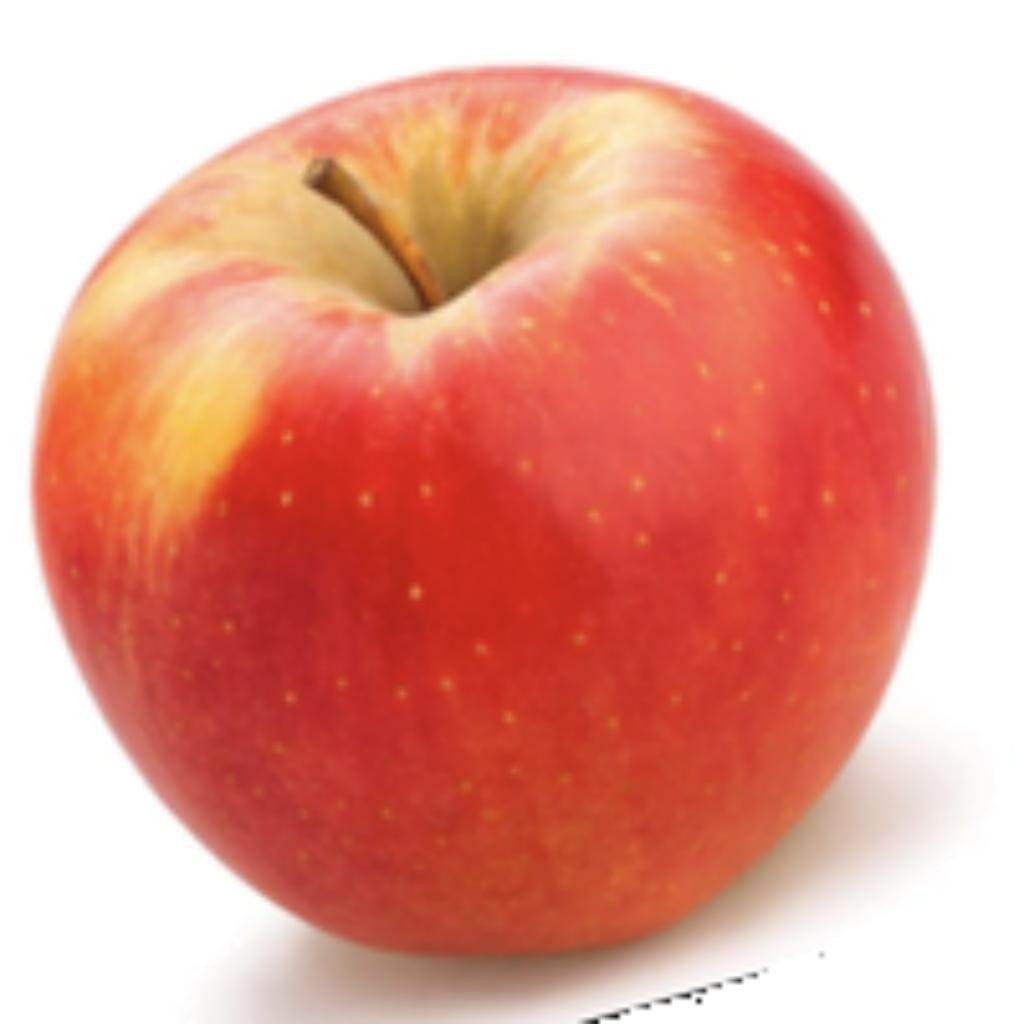apple: (20, 56, 963, 1019)
